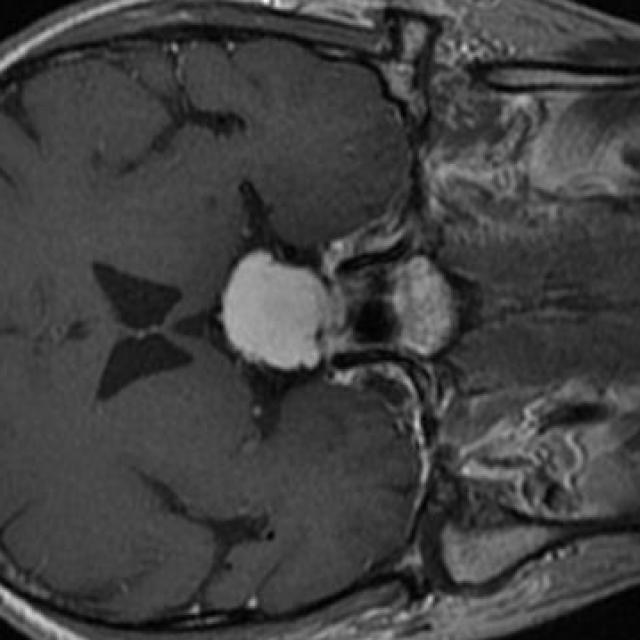meningioma: (223, 250, 332, 369)
